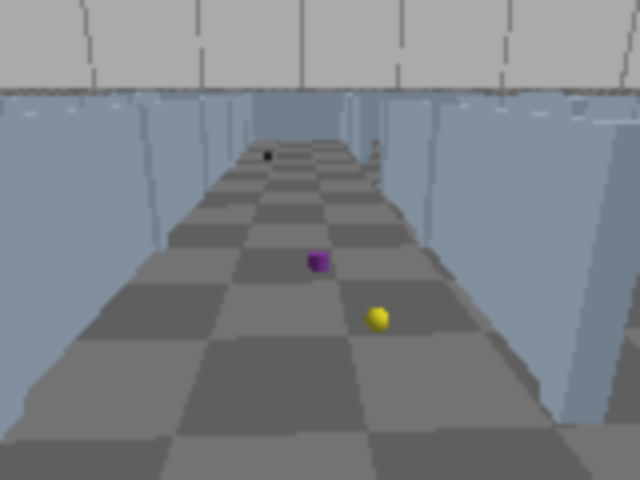puck: (362, 302, 392, 338), (310, 252, 328, 272)
